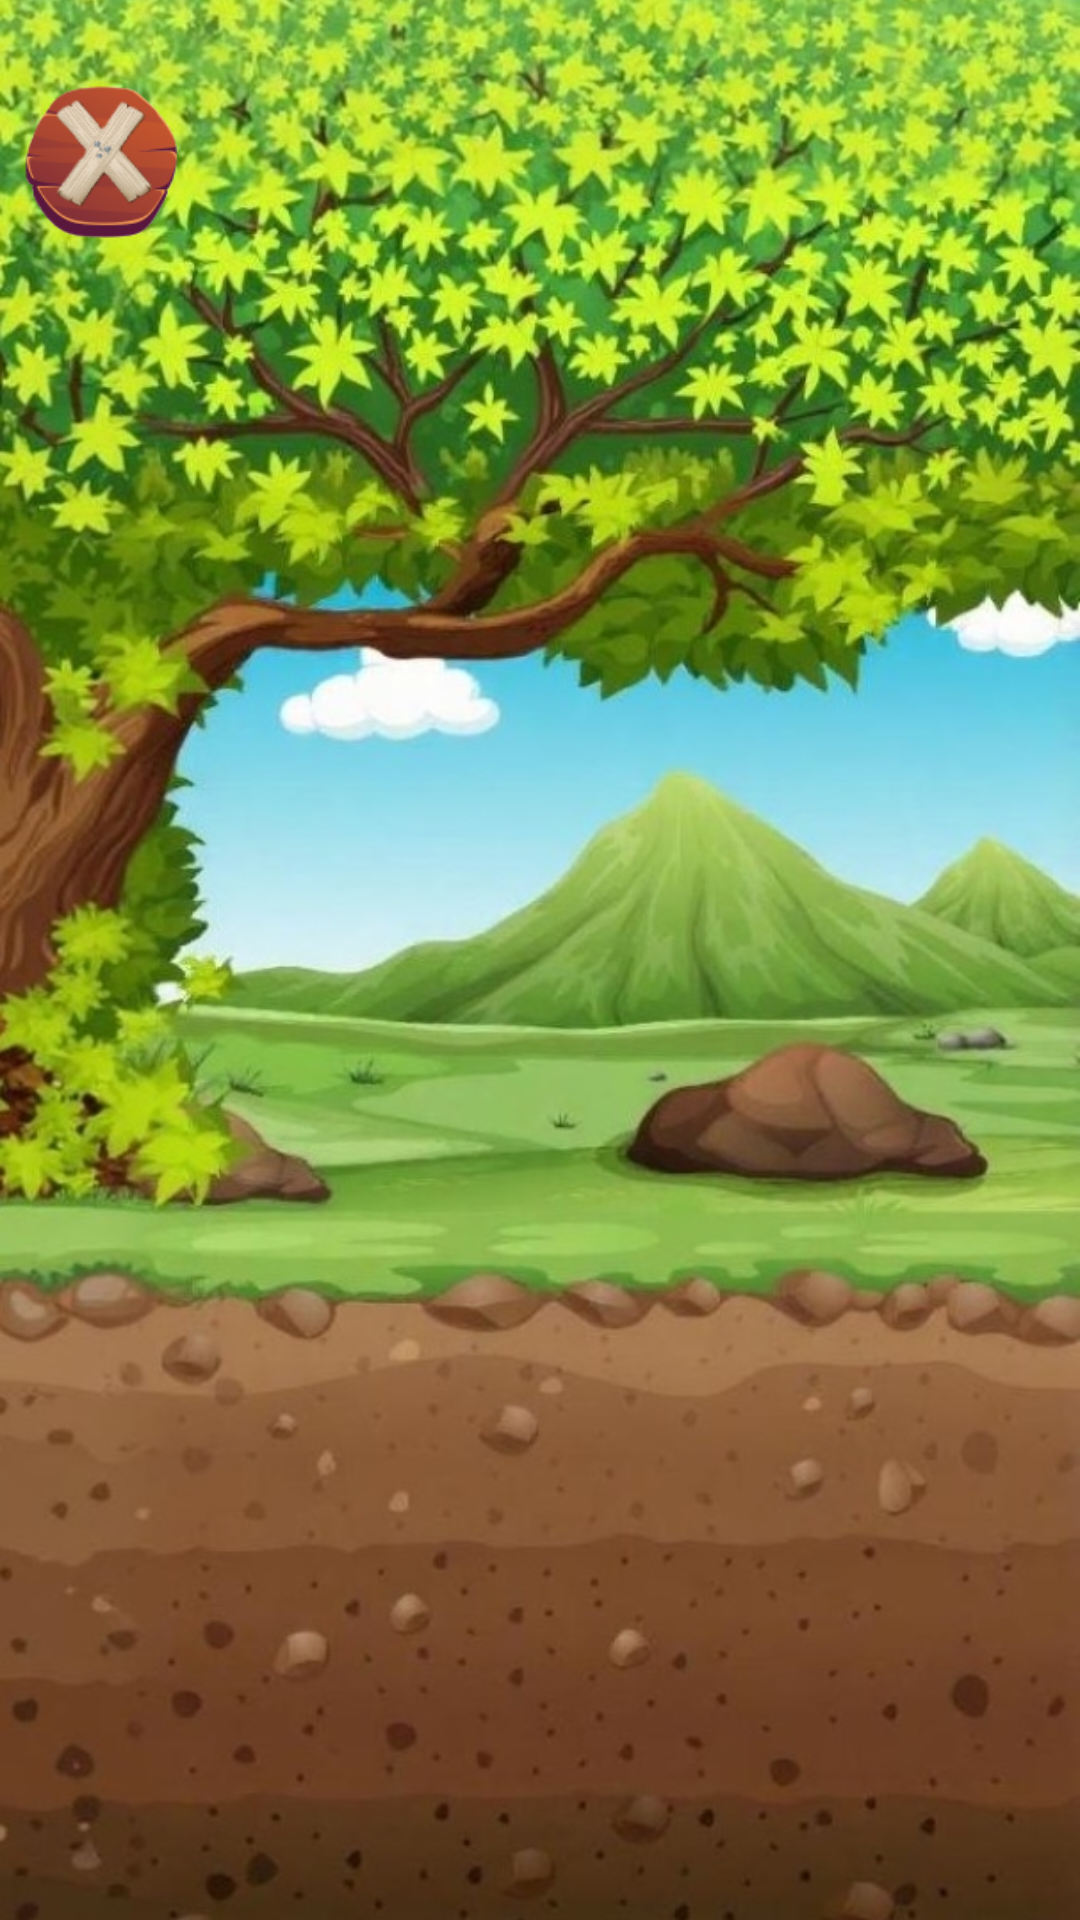

Point at icon controls on the screen. Image size 1080×1920, points as (x=x, y=y).
Back: (x=102, y=162)
